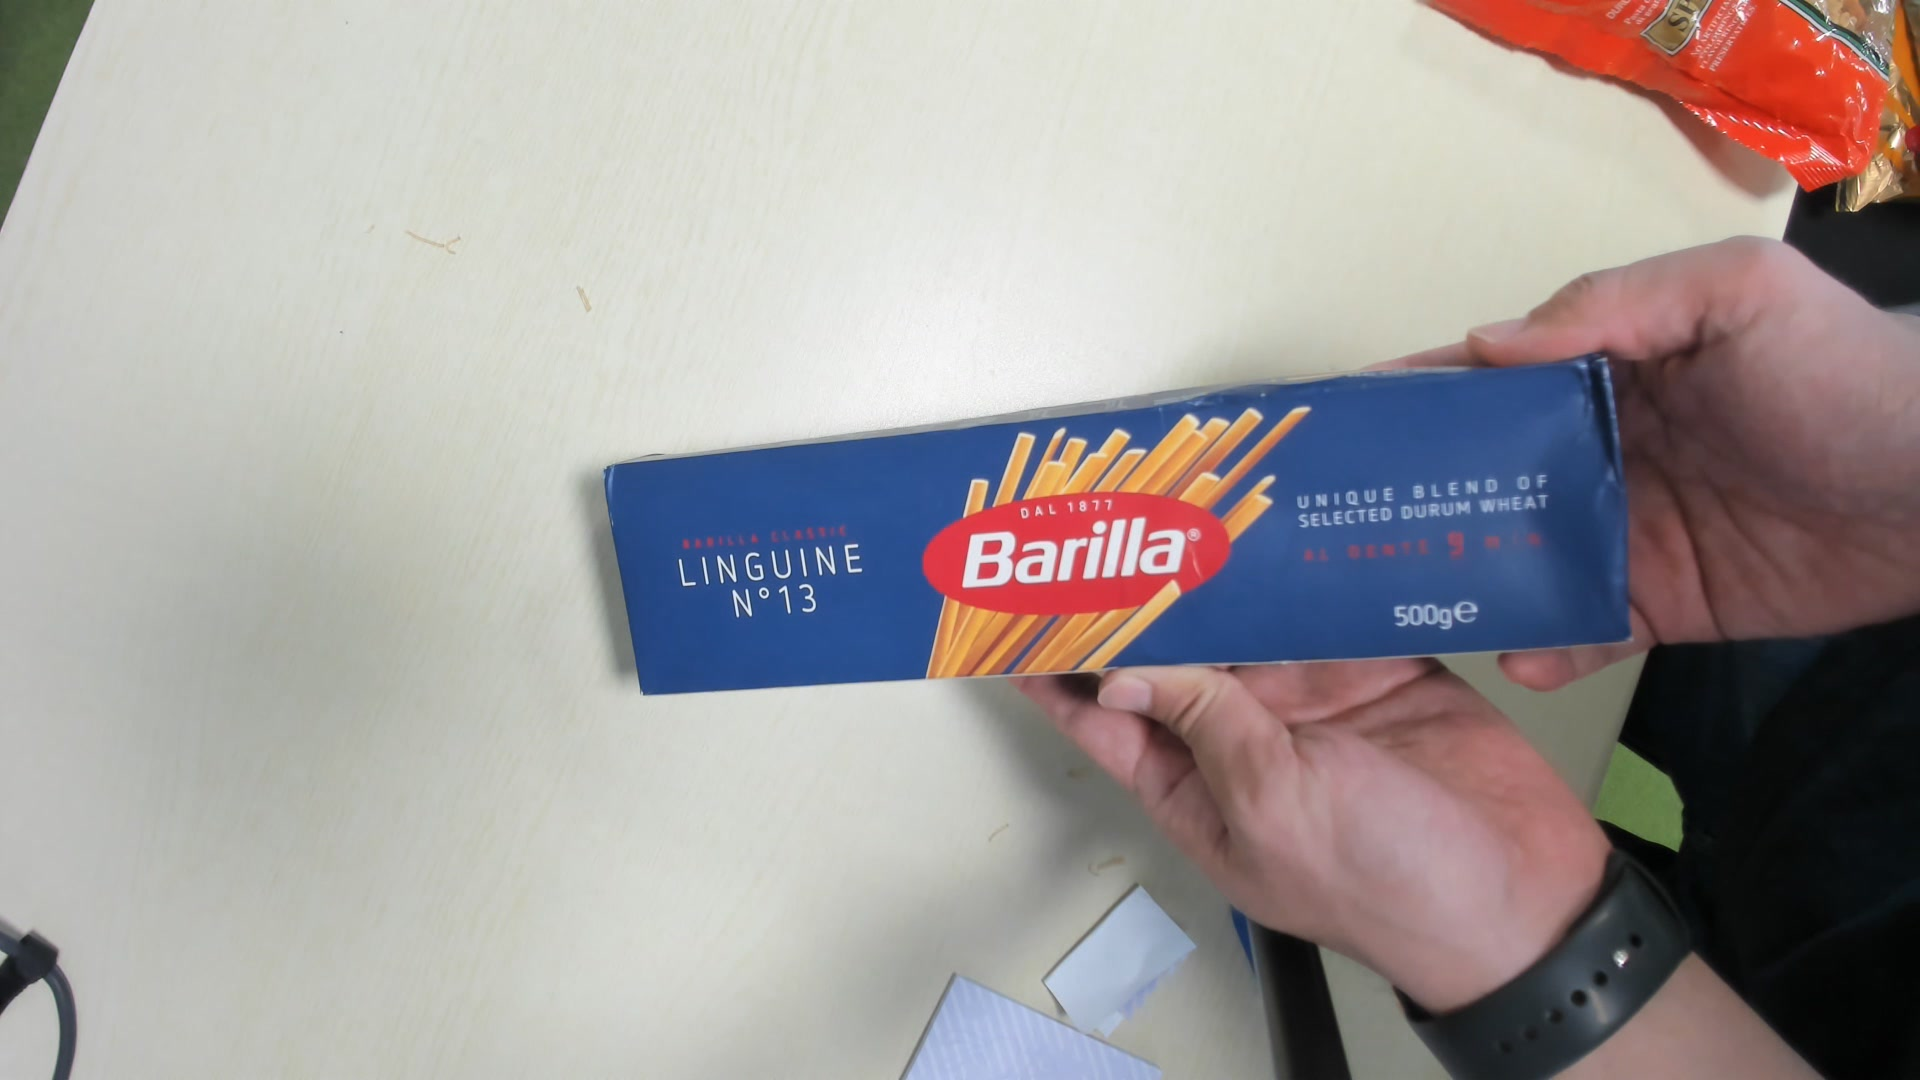Pasta_500-599g_NonHalal_NonHealthy: (599, 357, 1636, 705)
